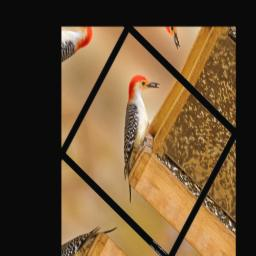Woodpecker: (88, 63, 182, 204)
